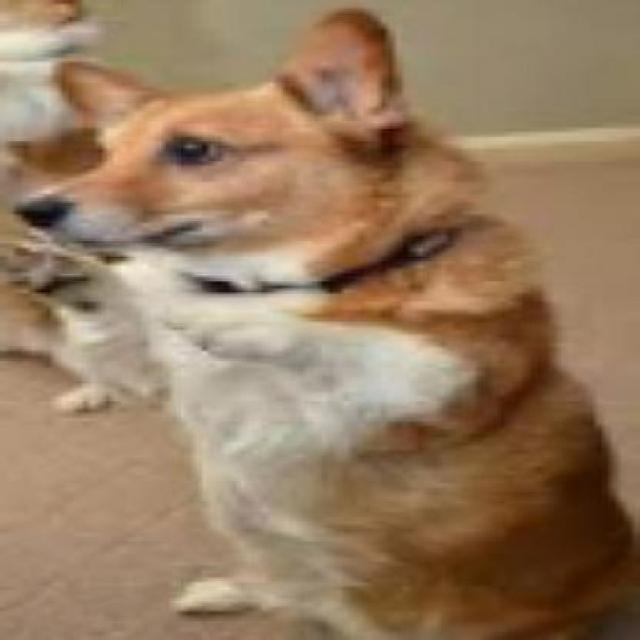Dog: (14, 9, 638, 638)
